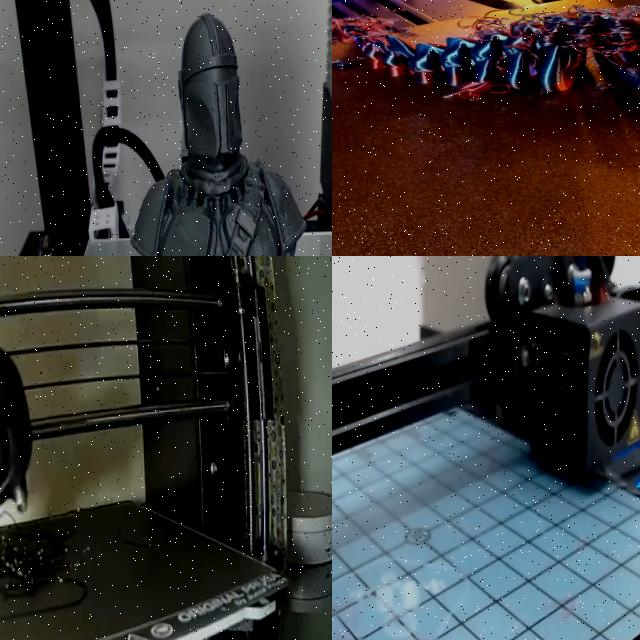spaghetti: (501, 0, 640, 76), (0, 506, 87, 591), (332, 0, 408, 47)
